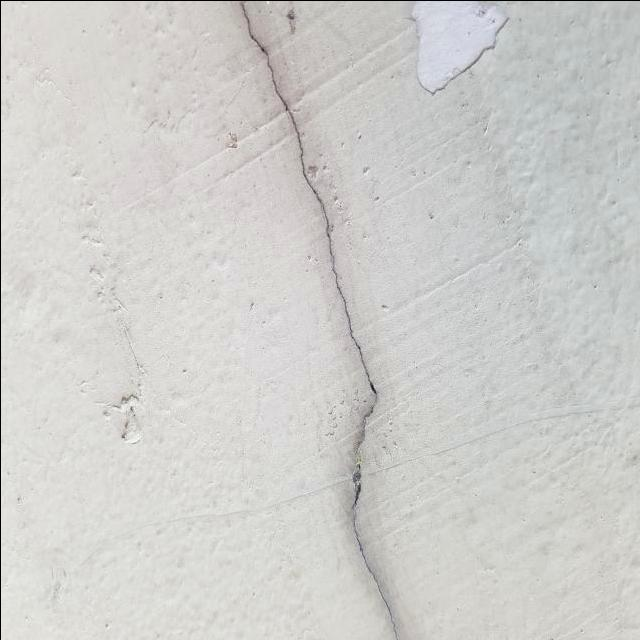SurfaceCrack: (198, 0, 434, 639)
